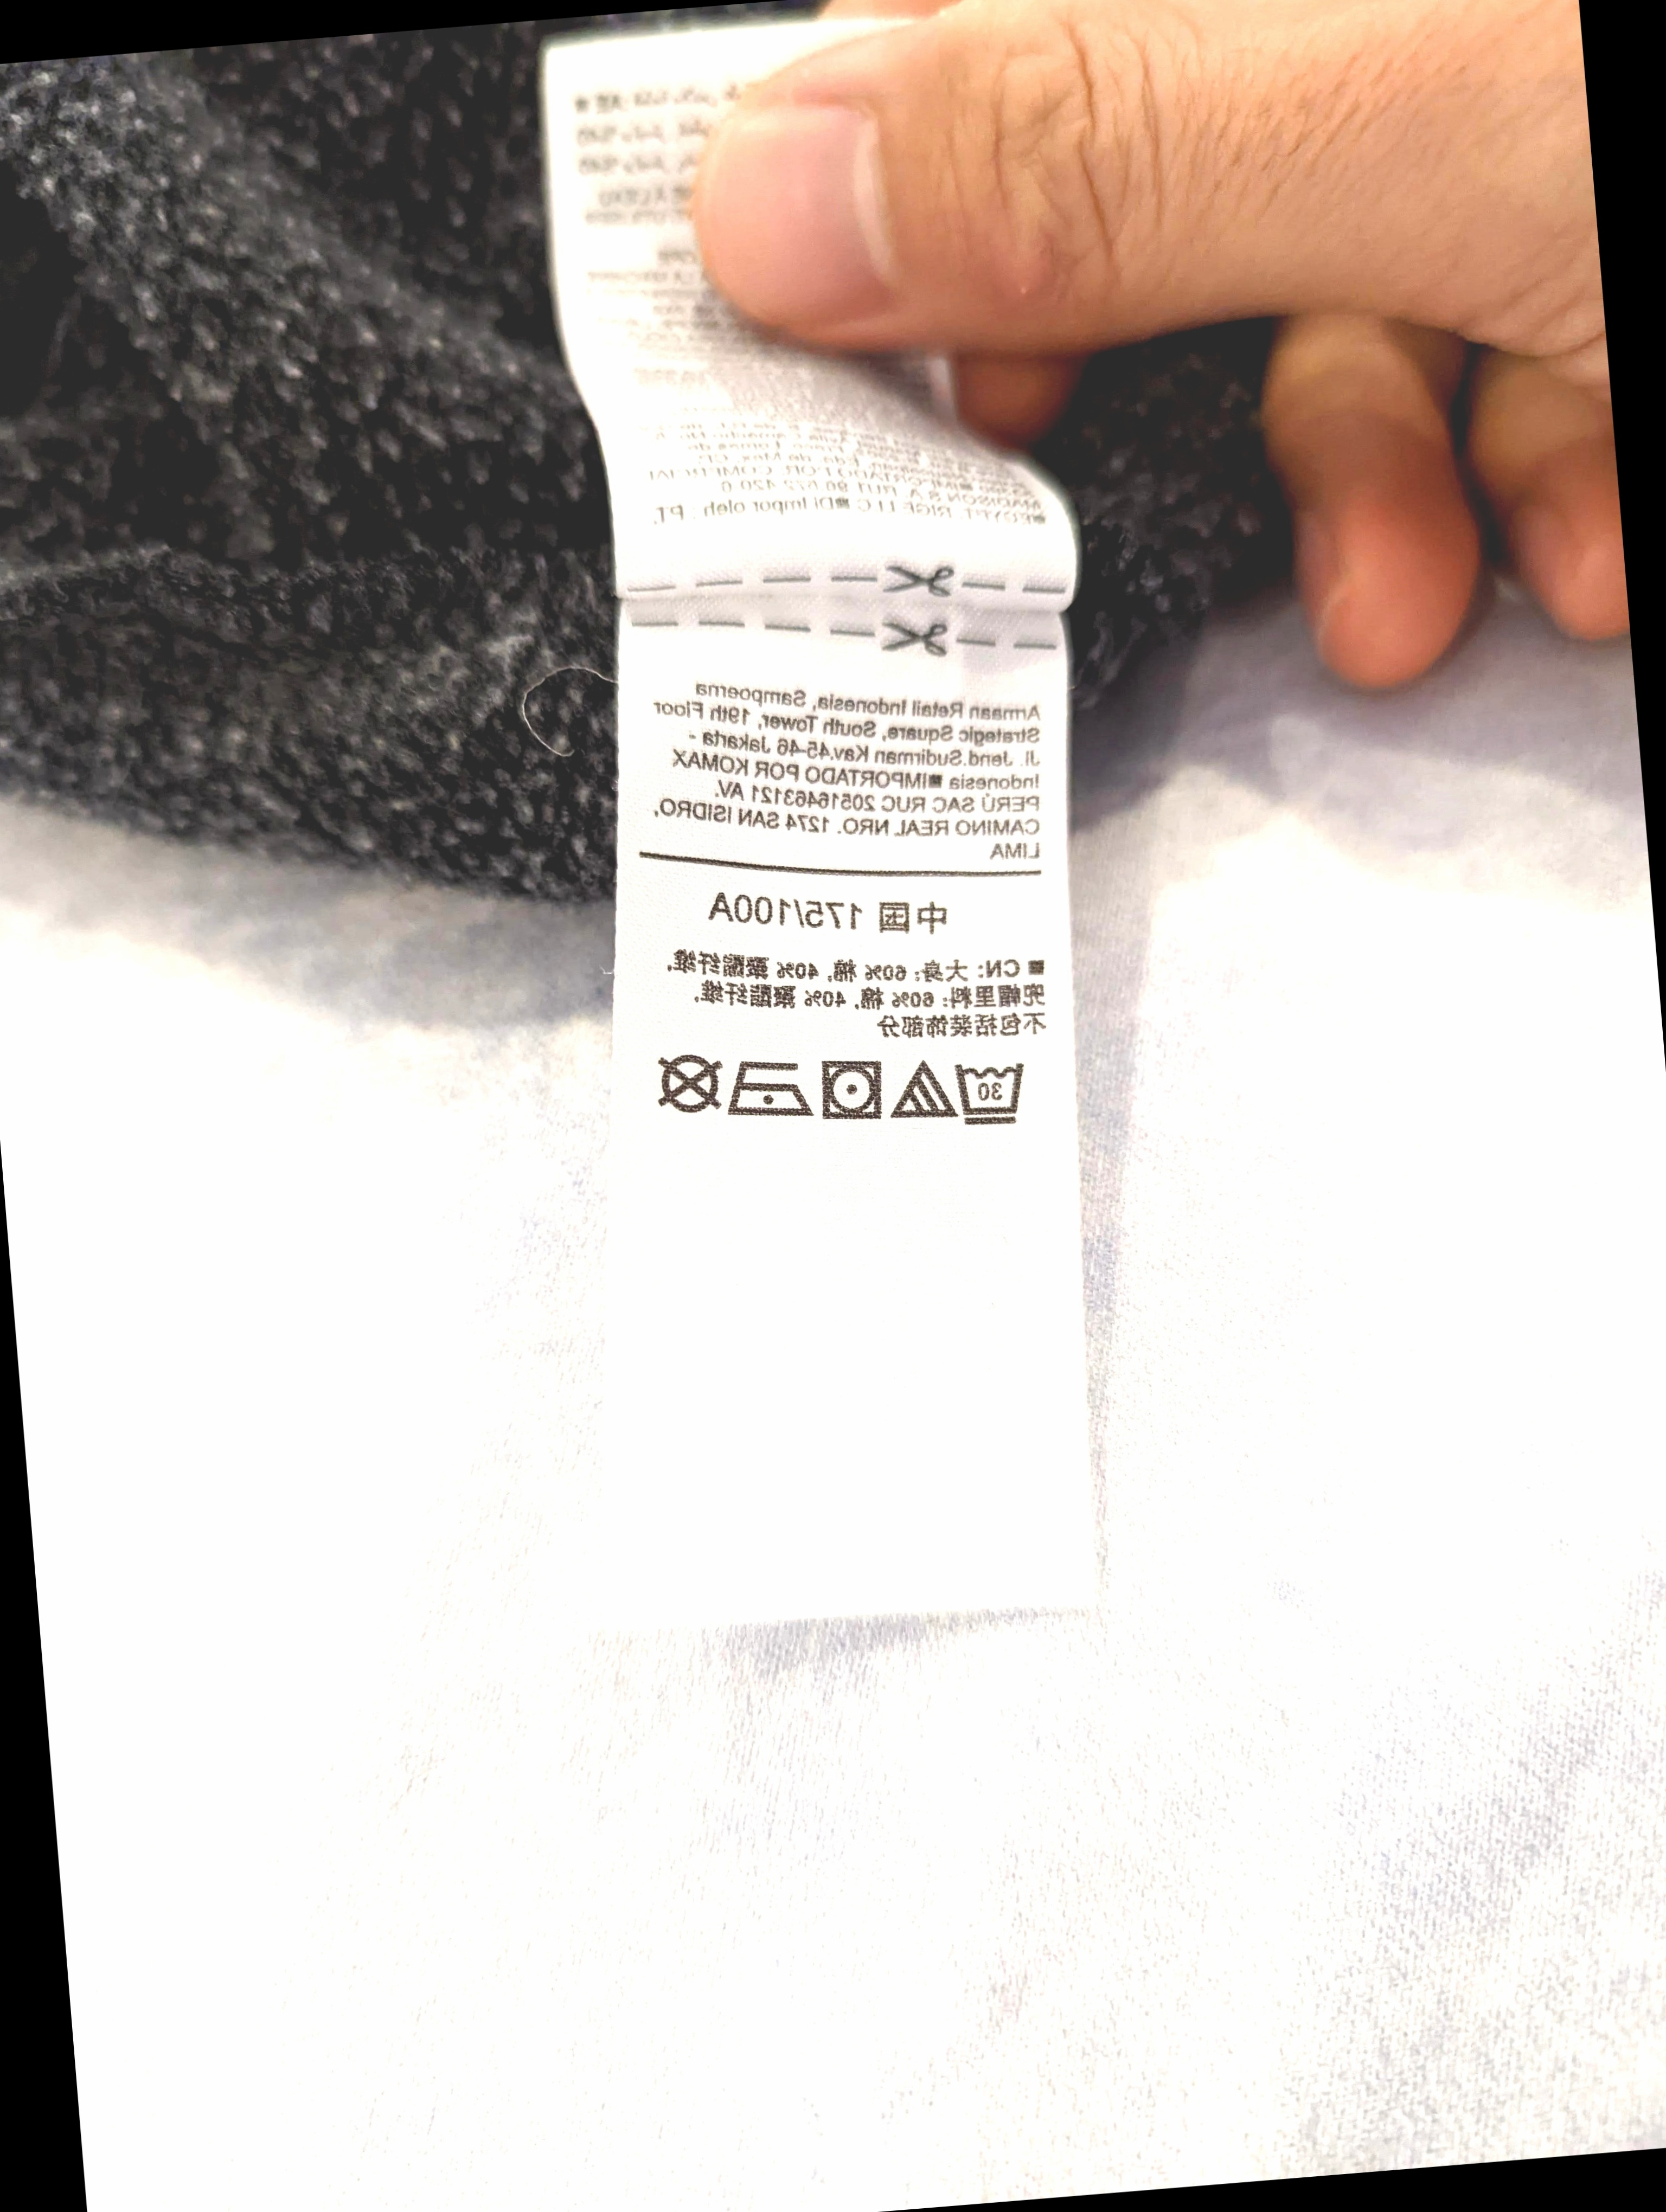30C: (950, 1049, 1024, 1133)
DN_bleach: (884, 1058, 959, 1126)
DN_dry_clean: (655, 1049, 726, 1123)
iron_low: (723, 1053, 816, 1131)
tumble_dry_low: (814, 1053, 889, 1128)
